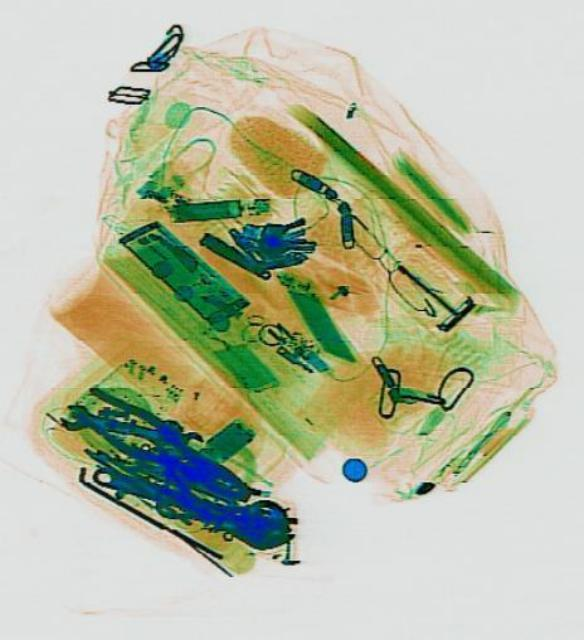Pliers: (65, 378, 260, 516)
Wrench: (84, 447, 299, 557), (56, 395, 179, 451)
